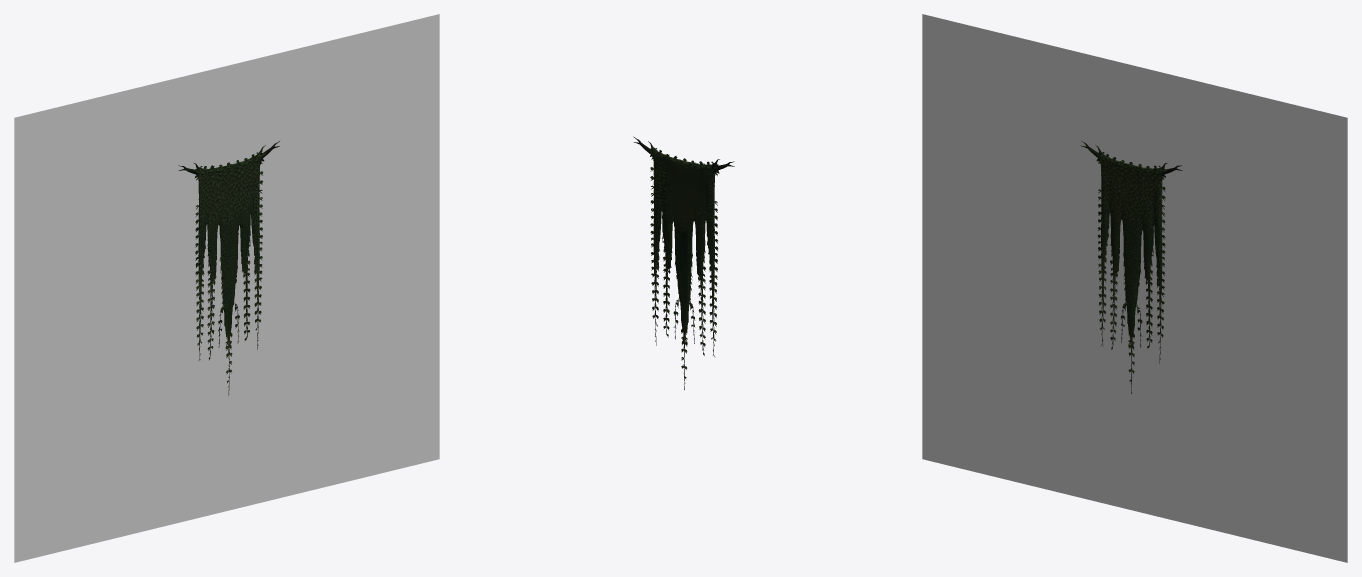
The model's file is wallvines1.glb.
3 renders of one model, left to right at view 1: azimuth 30°, elevation 25°; view 2: azimuth 150°, elevation 25°; view 3: azimuth 330°, elevation 25°, orthographic.
Visible parts, largest first — view 1: Plane, node_0; view 2: node_0; view 3: Plane, node_0.
Boxes of the visible parts, x1,y1,x2,y2 form: Plane: (14, 14, 439, 562); node_0: (178, 141, 279, 395); node_0: (633, 136, 734, 389); Plane: (922, 14, 1347, 562); node_0: (1081, 141, 1182, 393).
Size of the model in its own units: 2000 by 2000 by 31.1.
1 material, 1 textured.
